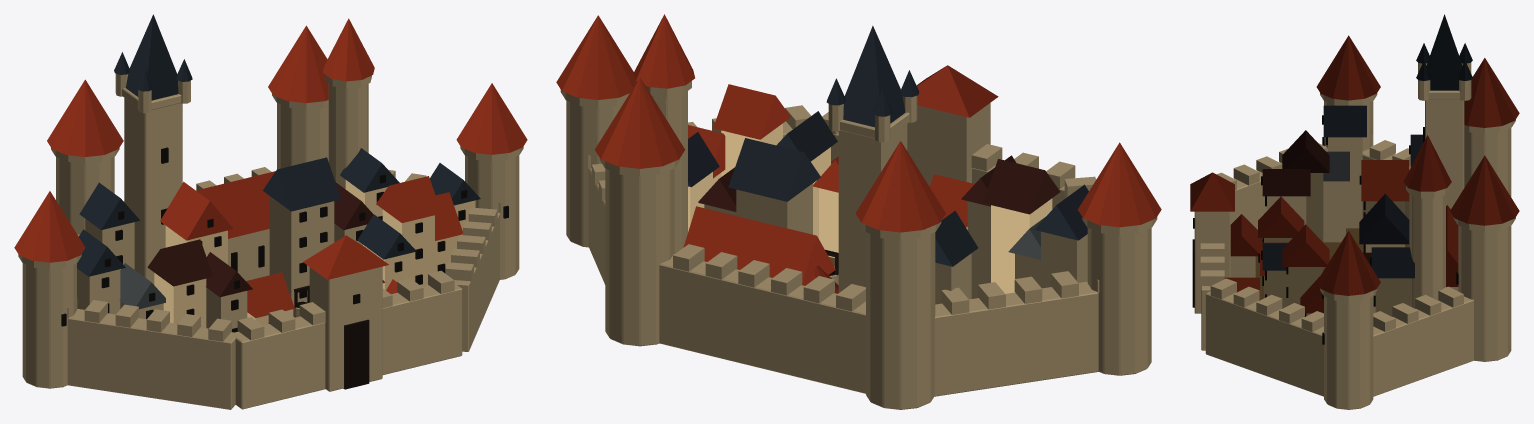
Rendered from settle_3_1.obj.
3 renders of one model, left to right at view 1: azimuth 30°, elevation 25°; view 2: azimuth 150°, elevation 25°; view 3: azimuth 270°, elevation 25°, orthographic. The views are drawn at different scales.
Parts seen in each view (by area): view 1: core_stone, core_roof_civic, core_roof_slate, core_roof_tile, core_plaster, core_roof_tile_old, core_slate, core_window, core_wood_dark, core_roof_lead; view 2: core_stone, core_roof_civic, core_roof_slate, core_plaster, core_roof_tile, core_roof_tile_old, core_slate, core_roof_lead; view 3: core_stone, core_roof_civic, core_roof_tile, core_roof_slate, core_plaster, core_roof_tile_old, core_slate, core_roof_lead, core_window, core_cloth.
Part boxes in pixels (<box>): core_stone: <box>18,73,523,409</box>; core_roof_civic: <box>14,18,527,279</box>; core_roof_slate: <box>77,148,480,276</box>; core_roof_tile: <box>160,176,462,318</box>; core_plaster: <box>154,180,475,327</box>; core_roof_tile_old: <box>147,182,373,297</box>; core_slate: <box>114,14,192,100</box>; core_window: <box>61,147,508,332</box>; core_wood_dark: <box>294,285,369,389</box>; core_roof_lead: <box>119,263,165,309</box>; core_stone: <box>560,81,1157,409</box>; core_roof_civic: <box>556,14,1161,293</box>; core_roof_slate: <box>688,111,1088,266</box>; core_plaster: <box>688,123,1052,293</box>; core_roof_tile: <box>688,84,974,227</box>; core_roof_tile_old: <box>698,155,1060,214</box>; core_slate: <box>826,25,918,127</box>; core_roof_lead: <box>1008,216,1046,259</box>; core_stone: <box>1194,62,1515,409</box>; core_roof_civic: <box>1190,35,1519,295</box>; core_roof_tile: <box>1224,160,1409,313</box>; core_roof_slate: <box>1262,105,1423,309</box>; core_plaster: <box>1264,173,1410,316</box>; core_roof_tile_old: <box>1262,130,1371,266</box>; core_slate: <box>1416,14,1472,90</box>; core_roof_lead: <box>1323,151,1349,181</box>; core_window: <box>1193,115,1458,344</box>; core_cloth: <box>1255,214,1409,300</box>.
Bounding box in the file's own units: 1.87 × 1.02 × 1.17.
